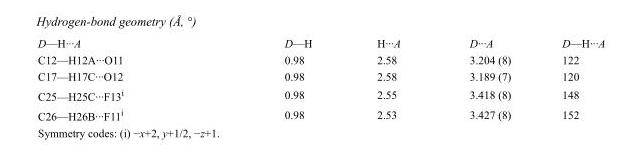table: (37, 36, 604, 122)
table column: (37, 36, 203, 122), (203, 36, 343, 122), (434, 36, 535, 122), (343, 36, 434, 122), (535, 36, 604, 122)
table row: (37, 84, 604, 104), (37, 104, 604, 122), (37, 67, 604, 84), (37, 51, 604, 67), (37, 36, 604, 51)
